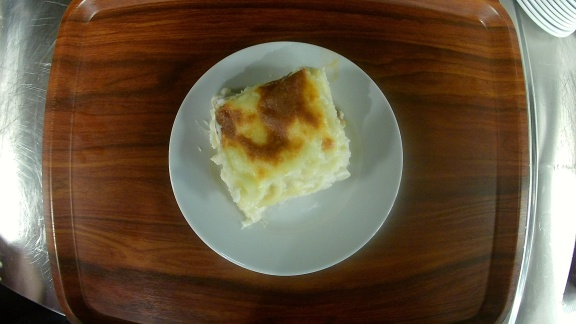firinmakarna: (168, 41, 405, 276)
